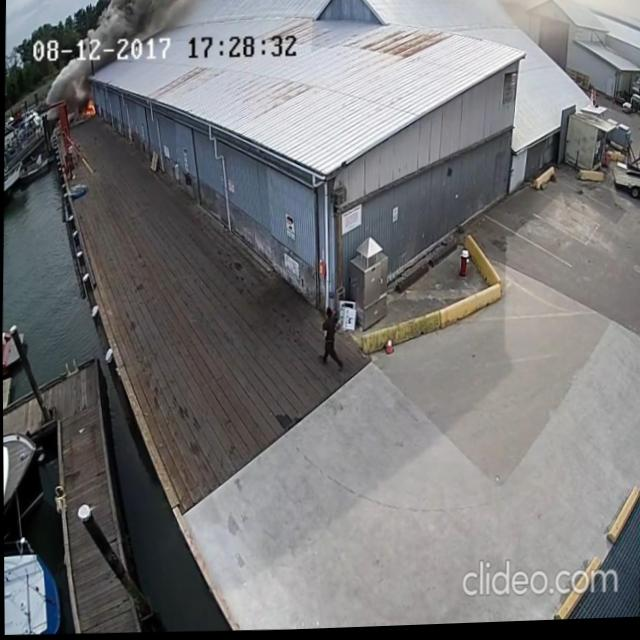fire: (82, 97, 96, 118)
